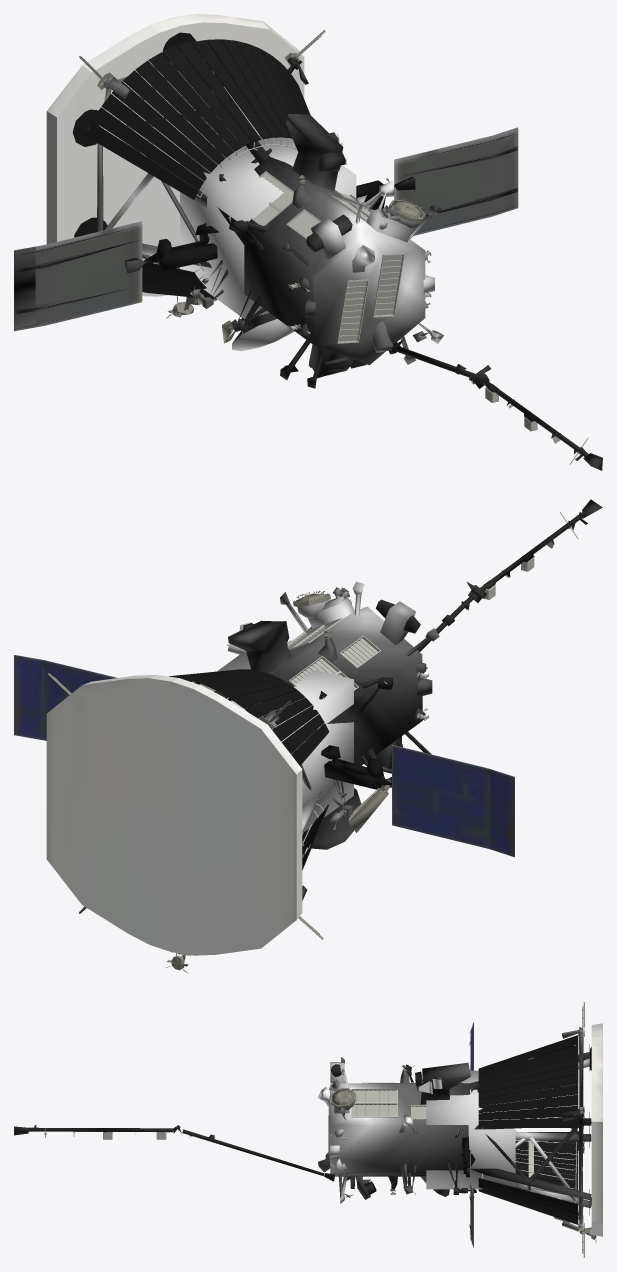
Rendered from space-parker.glb.
3 views of the same model, one above another, from view 1: azimuth 30°, elevation 25°; view 2: azimuth 150°, elevation 25°; view 3: azimuth 270°, elevation 25° (orthographic). The views are drawn at different scales.
Visible parts, largest first — view 1: BUS, Instruments, CoolingSystem, _root, CoolingSystem_frame, solarArray_arms, HGA, magnetometers; view 2: Instruments, BUS, CoolingSystem, _root, CoolingSystem_frame, solarArray_arms; view 3: BUS, CoolingSystem, _root, Instruments, CoolingSystem_frame.
Part boxes in pixels (x1=…): BUS: x1=14, y1=50, x2=602, y2=470; Instruments: x1=14, y1=14, x2=518, y2=343; CoolingSystem: x1=72, y1=32, x2=310, y2=299; _root: x1=180, y1=135, x2=356, y2=318; CoolingSystem_frame: x1=103, y1=55, x2=404, y2=343; solarArray_arms: x1=144, y1=180, x2=395, y2=270; HGA: x1=232, y1=319, x2=294, y2=351; magnetometers: x1=194, y1=178, x2=588, y2=464; Instruments: x1=14, y1=591, x2=514, y2=973; BUS: x1=214, y1=499, x2=602, y2=900; CoolingSystem: x1=169, y1=669, x2=329, y2=870; _root: x1=199, y1=652, x2=353, y2=833; CoolingSystem_frame: x1=192, y1=618, x2=381, y2=857; solarArray_arms: x1=321, y1=745, x2=391, y2=789; BUS: x1=14, y1=1027, x2=591, y2=1240; CoolingSystem: x1=478, y1=1035, x2=591, y2=1224; _root: x1=426, y1=1070, x2=515, y2=1189; Instruments: x1=330, y1=1002, x2=602, y2=1257; CoolingSystem_frame: x1=328, y1=1044, x2=576, y2=1203.
Size of the model in its own units: 4.51 by 2.52 by 6.6.
6 materials, 2 textured.
